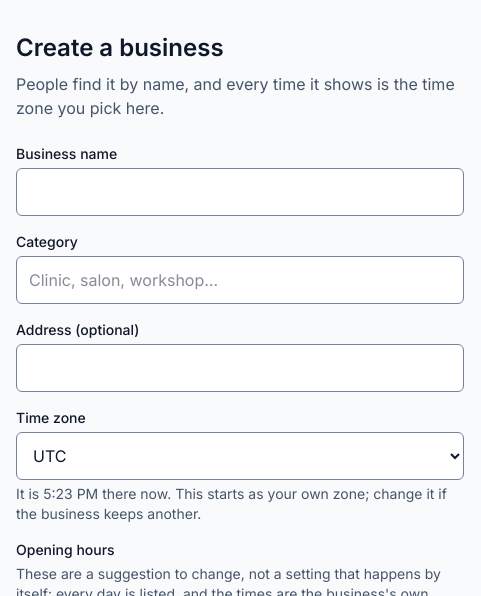
it: creating a business › shows the server's field errors on the fields themselves
Type "North Clinic" into the field labelled "Business name" at (240, 192), box [16,168,464,216]
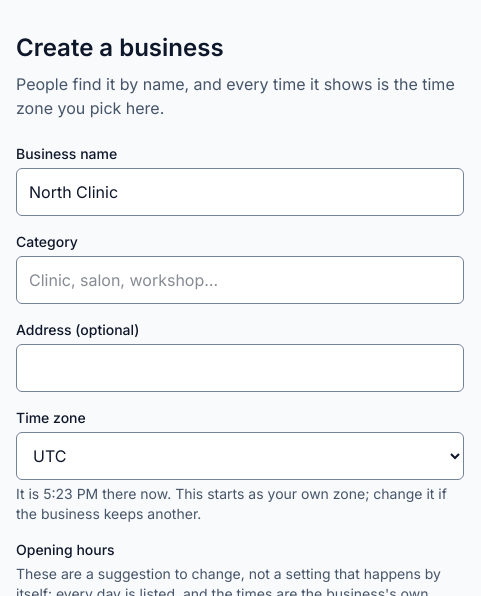
Type "clinic" into the field labelled "Category" at (240, 280), box [16,256,464,304]
(page scrolled)
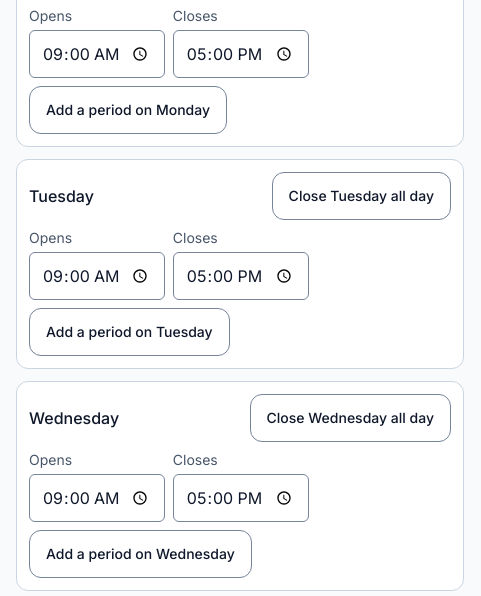
Submit the form named "Create business"
(page scrolled)
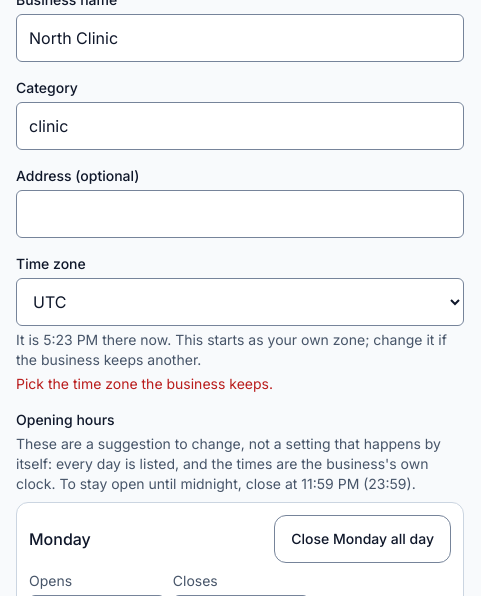
Check: the text "Pick the time zone the business keeps." is shown, box [16,375,273,392]
